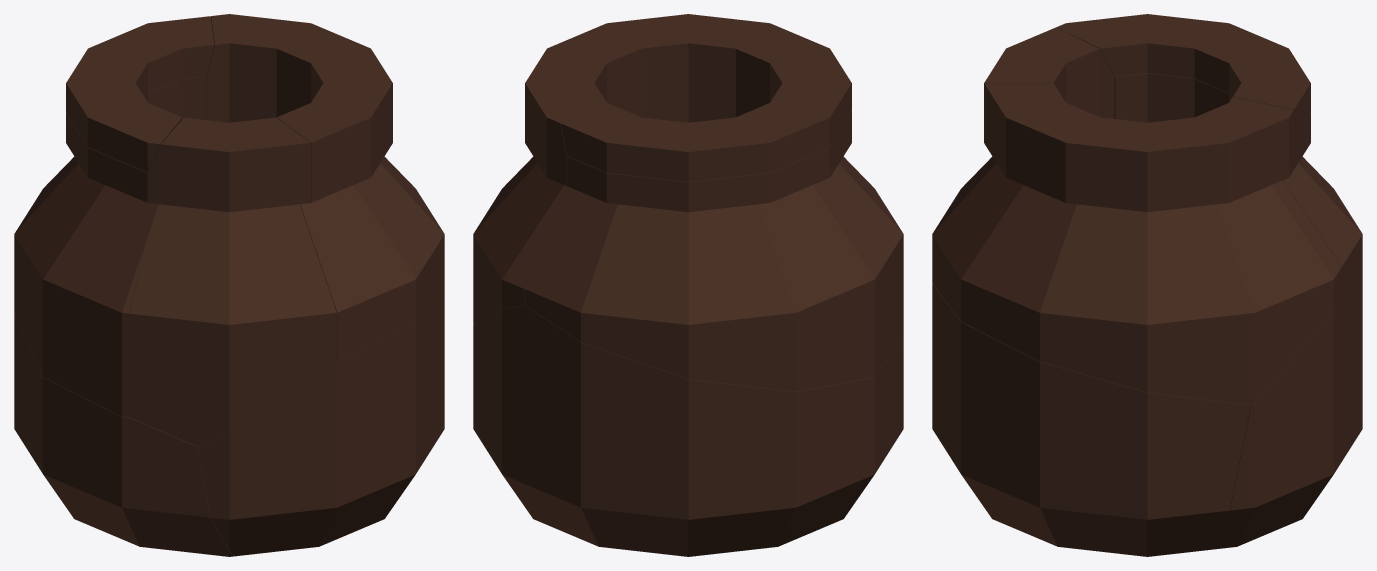
The model's file is small_pot_b.glb.
3 renders of one model, left to right at view 1: azimuth 30°, elevation 25°; view 2: azimuth 150°, elevation 25°; view 3: azimuth 270°, elevation 25°, orthographic.
Visible parts, largest first — view 1: Cylinder_cell.005, Cylinder_cell, Cylinder_cell.003, Cylinder_cell.001, Cylinder_cell.004, Cylinder_cell.002; view 2: Cylinder_cell.004, Cylinder_cell.001, Cylinder_cell, Cylinder_cell.002, Cylinder_cell.005; view 3: Cylinder_cell, Cylinder_cell.003, Cylinder_cell.004, Cylinder_cell.002, Cylinder_cell.001, Cylinder_cell.005.
Part boxes in pixels (x1=…): Cylinder_cell.005: x1=129, y1=117, x2=336, y2=446; Cylinder_cell: x1=206, y1=14, x2=444, y2=361; Cylinder_cell.003: x1=197, y1=283, x2=444, y2=556; Cylinder_cell.001: x1=14, y1=76, x2=206, y2=417; Cylinder_cell.004: x1=14, y1=314, x2=233, y2=556; Cylinder_cell.002: x1=66, y1=16, x2=214, y2=171; Cylinder_cell.004: x1=473, y1=305, x2=903, y2=556; Cylinder_cell.001: x1=524, y1=114, x2=903, y2=391; Cylinder_cell: x1=473, y1=14, x2=769, y2=324; Cylinder_cell.002: x1=561, y1=77, x2=851, y2=181; Cylinder_cell.005: x1=735, y1=23, x2=900, y2=229; Cylinder_cell: x1=932, y1=83, x2=1341, y2=405; Cylinder_cell.003: x1=932, y1=283, x2=1250, y2=556; Cylinder_cell.004: x1=1195, y1=263, x2=1362, y2=551; Cylinder_cell.002: x1=1056, y1=14, x2=1310, y2=135; Cylinder_cell.001: x1=1114, y1=73, x2=1362, y2=282; Cylinder_cell.005: x1=932, y1=27, x2=1114, y2=233.
Bounding box in the file's own units: 2 × 2.18 × 2.
